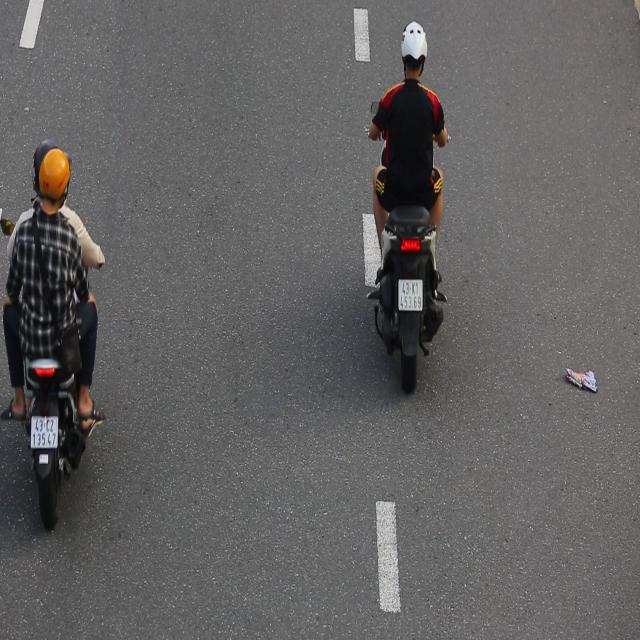motorbike: (0, 125, 107, 535), (364, 18, 456, 401)
